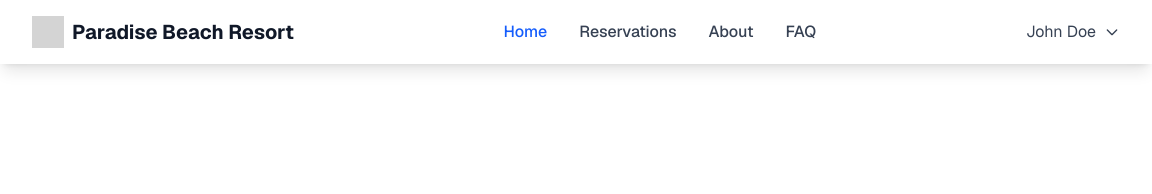
Test: Navigation Component › opens user dropdown when user menu is clicked
Step 1. Click the button with aria-label "user menu" → click(1073, 32), box [1026,20,1120,44]
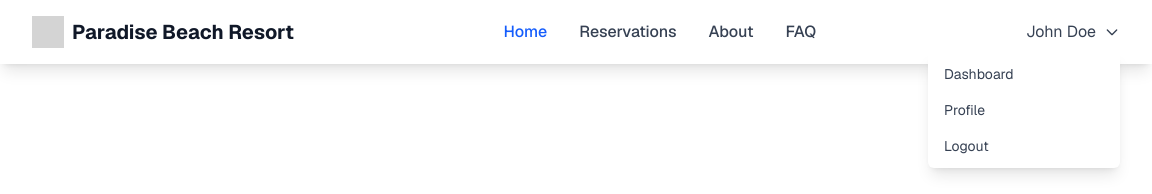
Expected: the link "Dashboard" is shown, [944,65,1014,83]
Expected: the link "Profile" is shown, [944,101,985,119]
Expected: the button "Logout" is shown, [928,128,1120,164]
